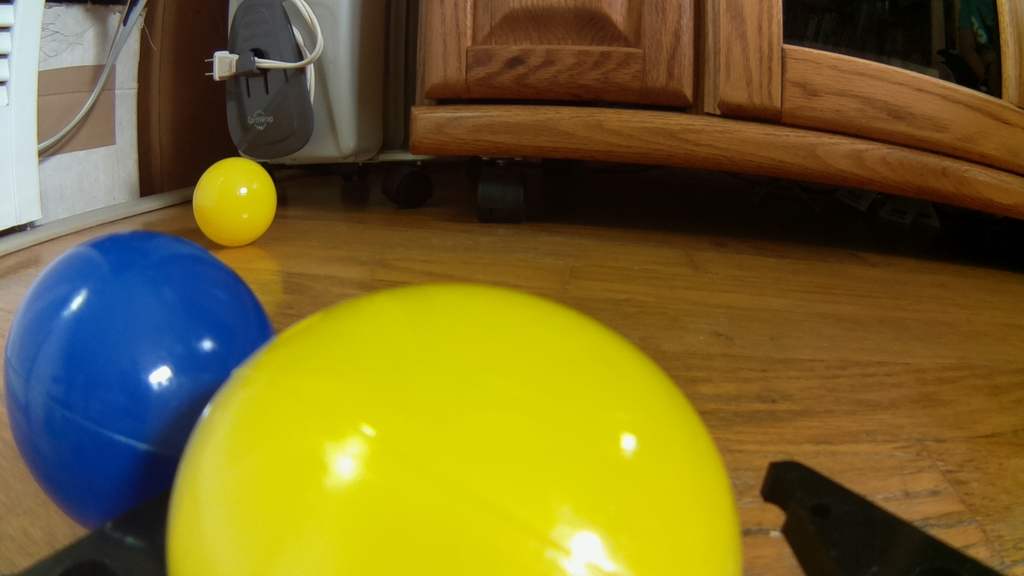ball: (160, 279, 744, 576)
